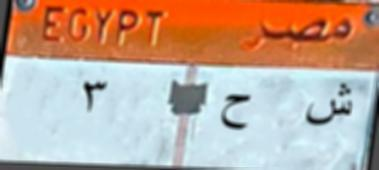3: (66, 76, 124, 124)
7aa: (214, 86, 259, 141)
sheen: (302, 78, 357, 132)
